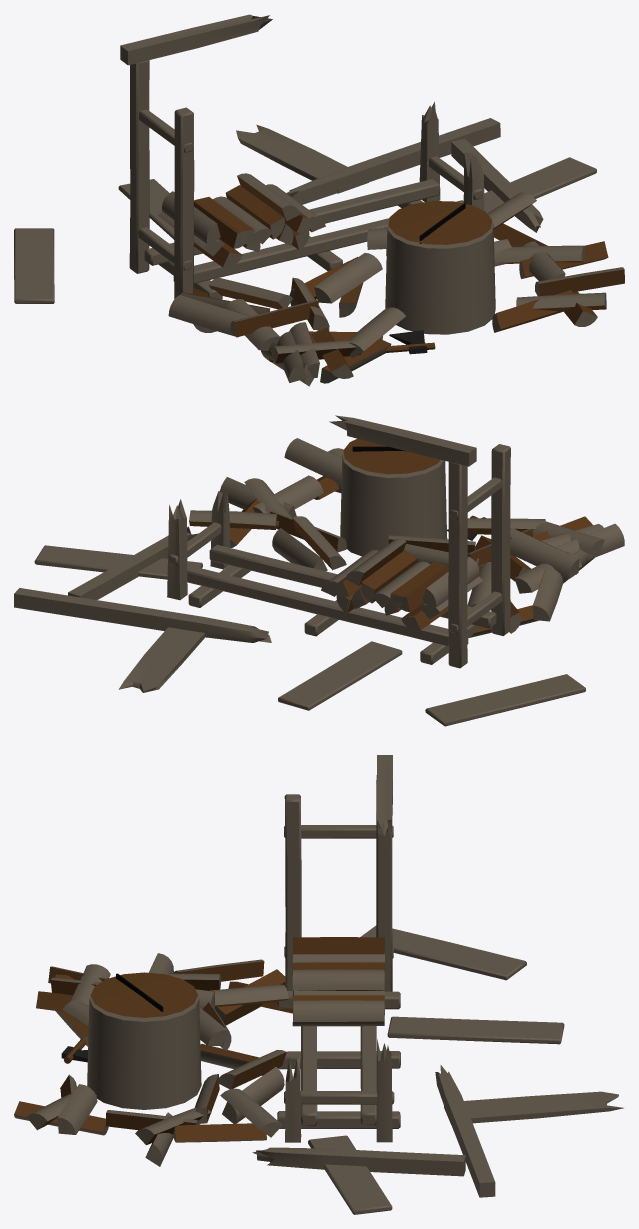
File: holzstapel_kaputt.glb
3 views of the same model, one above another, from view 1: azimuth 30°, elevation 25°; view 2: azimuth 150°, elevation 25°; view 3: azimuth 270°, elevation 25° (orthographic). The views are drawn at different scales.
Visible parts, largest first — view 1: holzstapel_kaputt; view 2: holzstapel_kaputt; view 3: holzstapel_kaputt.
Boxes of the visible parts, box(x1,y1,x2,y2) form: holzstapel_kaputt: box(14, 14, 624, 386); holzstapel_kaputt: box(14, 415, 624, 726); holzstapel_kaputt: box(14, 755, 623, 1214).
Size of the model in its own units: 2.95 by 1.16 by 2.67.
